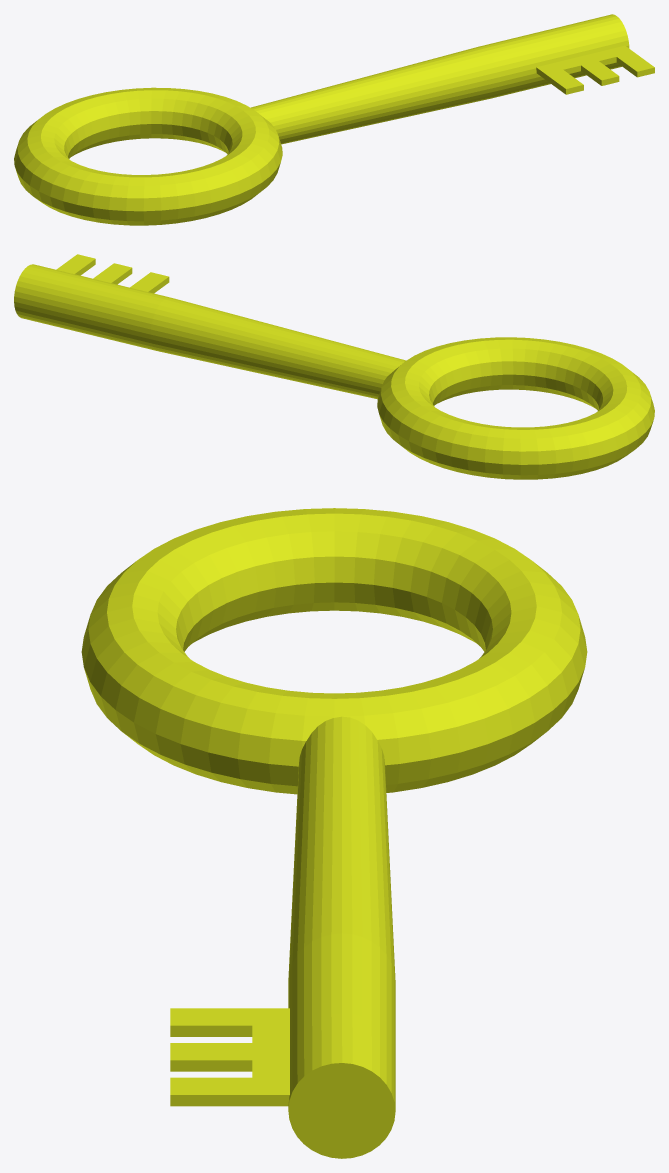
File: Key.fbx
3 renders of one model, top to bottom at view 1: azimuth 30°, elevation 25°; view 2: azimuth 150°, elevation 25°; view 3: azimuth 270°, elevation 25°, orthographic. The views are drawn at different scales.
Parts seen in each view (by area): view 1: Torus, Cylinder, Plane; view 2: Torus, Cylinder, Plane; view 3: Torus, Cylinder, Plane.
Boxes of the visible parts, bbox=[...] form: Torus: bbox=[14, 87, 282, 225]; Cylinder: bbox=[250, 14, 629, 144]; Plane: bbox=[536, 45, 654, 94]; Torus: bbox=[377, 337, 654, 479]; Cylinder: bbox=[14, 264, 405, 399]; Plane: bbox=[56, 254, 169, 293]; Torus: bbox=[81, 508, 587, 794]; Cylinder: bbox=[288, 716, 395, 1158]; Plane: bbox=[170, 1008, 289, 1106].
Bounding box in the file's own units: 569 × 45 × 211.
